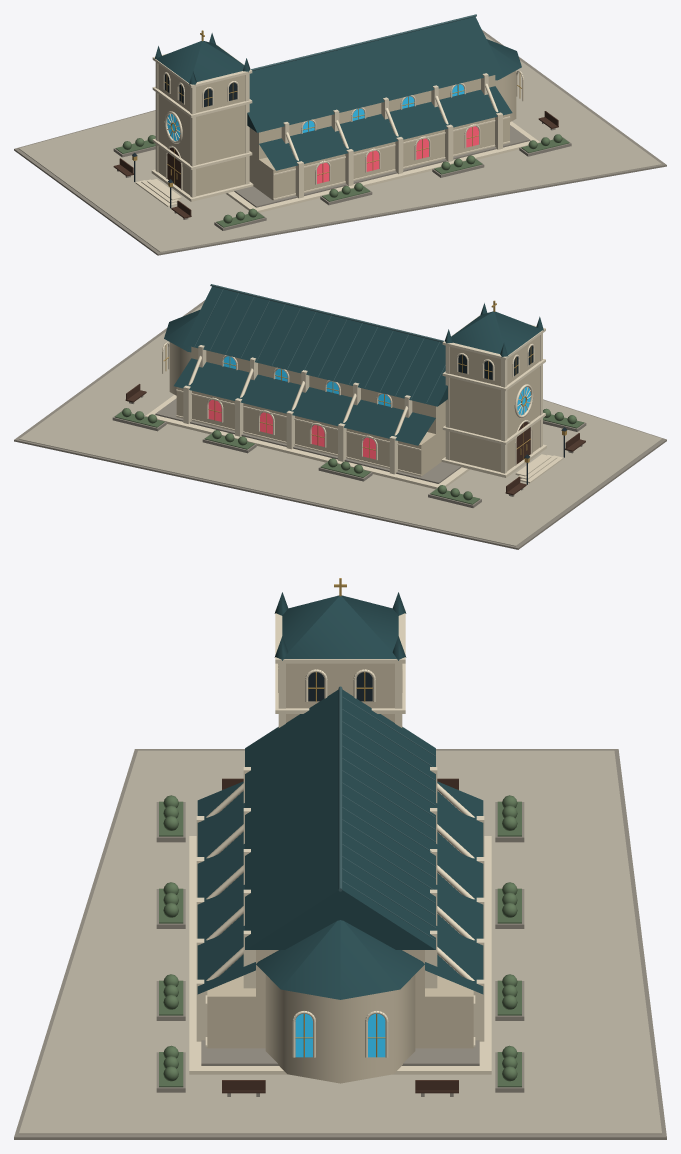
File: church.glb
The picture shows the model from 3 angles, top to bottom: view 1: azimuth 30°, elevation 25°; view 2: azimuth 150°, elevation 25°; view 3: azimuth 270°, elevation 25°; orthographic projection. The views are drawn at different scales.
Parts seen in each view (by area): view 1: paving, roof, stone, trim, base, green, wood, ruby, glass, gold, roofEdge, dark; view 2: paving, roof, stone, trim, base, green, roofEdge, wood, ruby, glass, gold, dark; view 3: paving, roof, stone, trim, base, green, roofEdge, wood, glass, dark.
Part boxes in pixels (box(x1,y1,x2,y2)): paving: box(18, 34, 661, 252); roof: box(154, 16, 521, 170); stone: box(158, 64, 516, 200); trim: box(135, 44, 539, 212); base: box(14, 30, 666, 255); green: box(115, 134, 569, 227); wood: box(113, 111, 558, 218); ruby: box(317, 126, 478, 183); glass: box(167, 84, 464, 141); gold: box(132, 30, 521, 187); roofEdge: box(251, 14, 476, 70); dark: box(132, 74, 237, 208); paving: box(19, 304, 661, 546); roof: box(164, 286, 543, 445); stone: box(169, 335, 539, 476); trim: box(145, 315, 563, 489); base: box(14, 300, 666, 549); green: box(114, 408, 584, 504); roofEdge: box(194, 284, 445, 402); wood: box(125, 384, 585, 495); ruby: box(208, 400, 375, 459); glass: box(223, 356, 530, 415); gold: box(163, 300, 566, 462); dark: box(458, 346, 567, 484); paving: box(19, 750, 661, 1134); roof: box(197, 592, 483, 999); stone: box(207, 663, 473, 1083); trim: box(189, 609, 491, 1074); base: box(14, 749, 666, 1139); green: box(159, 795, 521, 1087); roofEdge: box(338, 686, 435, 940); wood: box(222, 778, 458, 1093); glass: box(295, 1013, 385, 1057); dark: box(308, 672, 372, 701).
Size of the model in its own units: 76 by 23.7 by 54.
